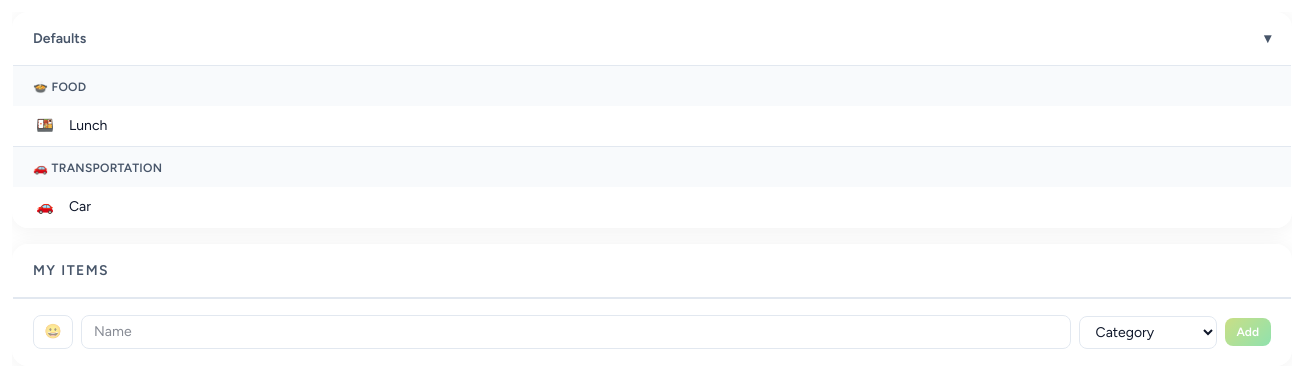
Test case: SubcategoriesTab — defaults grouped by parent › collapses defaults section on toggle
Click the button "Defaults ▾" at x=60, y=38, box [13,13,1291,65]
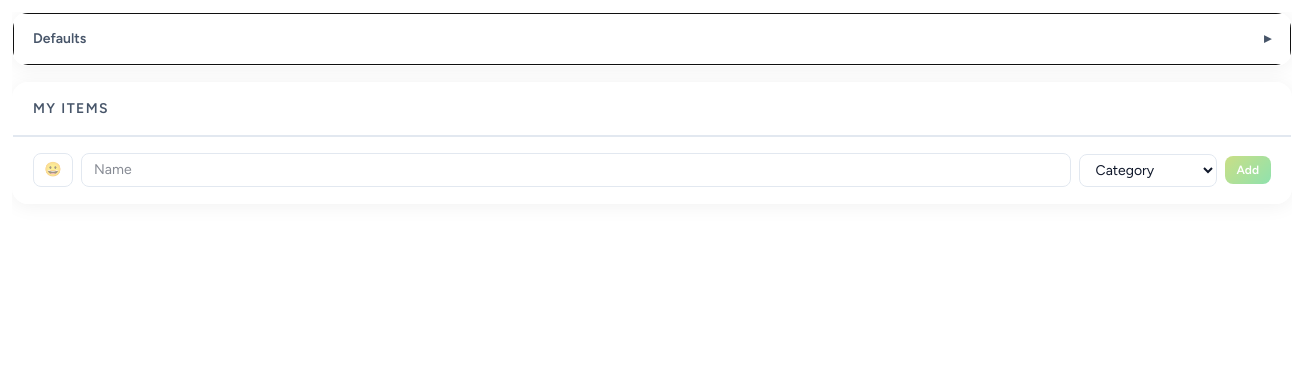
Result: the text "Lunch" is gone
